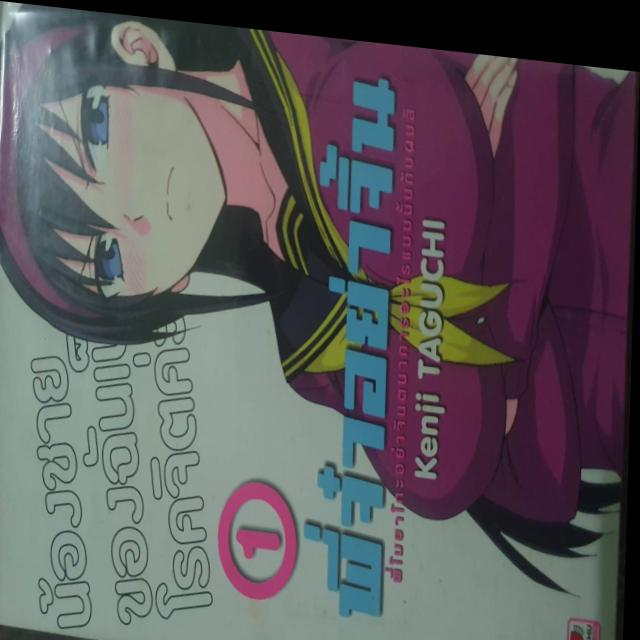Zenshu: (0, 1, 640, 640)
